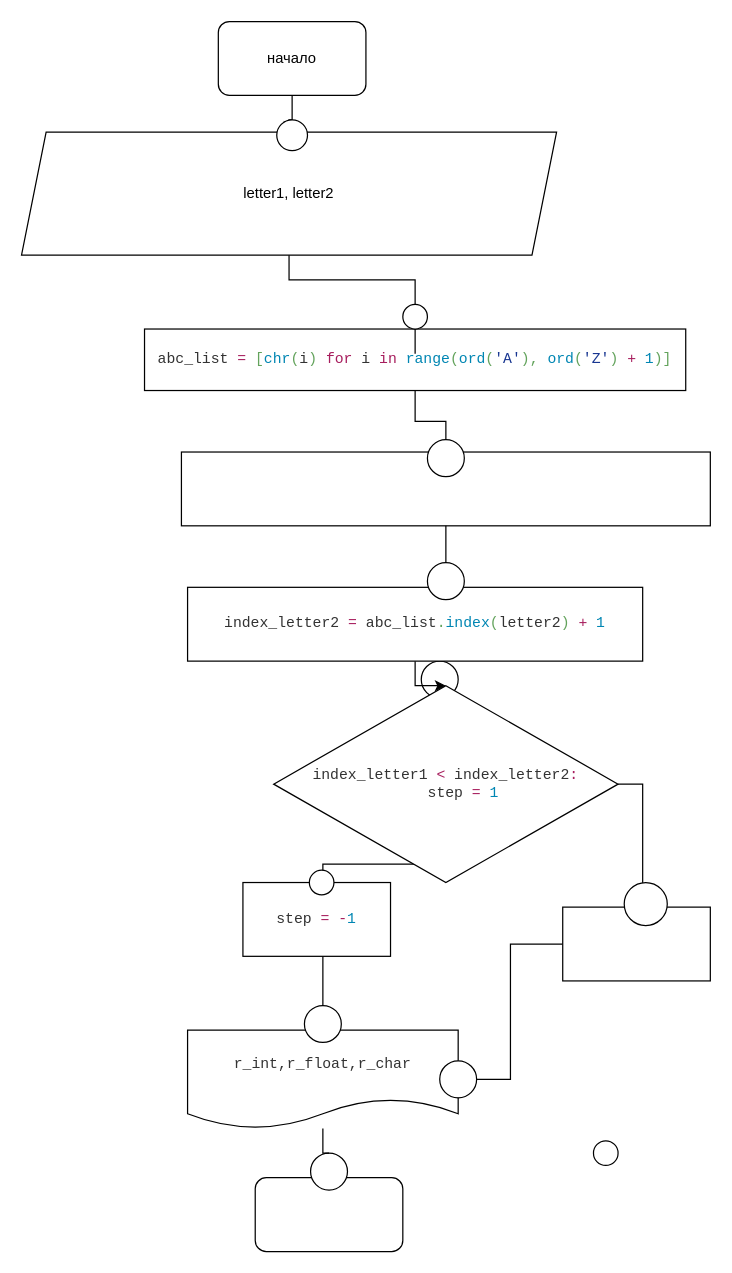
Some shapes in this 732 by 1273 pixel diagram are drawn without their labels. The shapes that lost their labels are listed below. From the top down, each one's box as (x1, y1, x2, y2) in pixels, then its label:
(180, 451, 710, 526): index_letter1 = abc_list . index ( letter1 ) + 1
(561, 906, 710, 981): step = 1
(254, 1176, 403, 1252): конец
